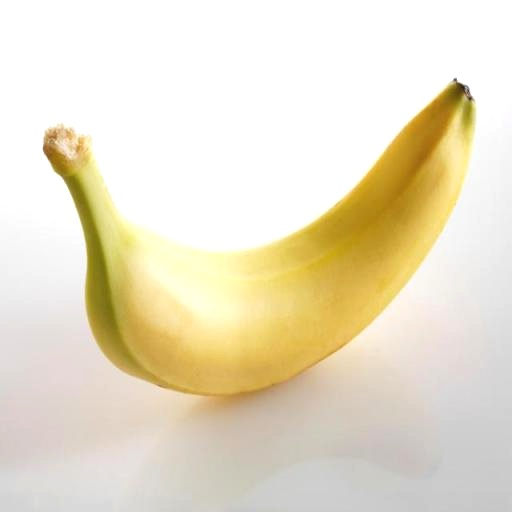fruit: (43, 81, 474, 394)
